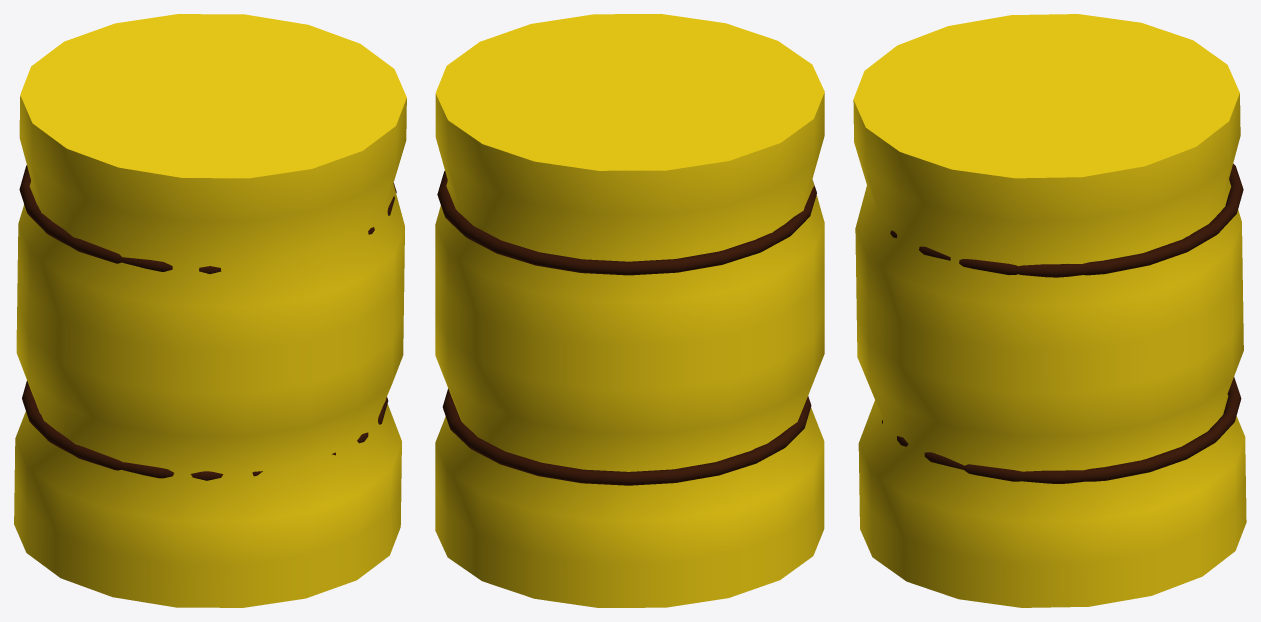
The model's file is Snopek_zboze.FBX.
3 views of the same model, side by side, from view 1: azimuth 30°, elevation 25°; view 2: azimuth 150°, elevation 25°; view 3: azimuth 270°, elevation 25° (orthographic).
Visible parts, largest first — view 1: Cylinder001, Torus002, Torus001; view 2: Cylinder001, Torus001, Torus002; view 3: Cylinder001, Torus002, Torus001.
Boxes of the visible parts, x1=… form: Cylinder001: x1=14, y1=14, x2=406, y2=607; Torus002: x1=22, y1=381, x2=388, y2=480; Torus001: x1=19, y1=165, x2=396, y2=273; Cylinder001: x1=435, y1=14, x2=824, y2=607; Torus001: x1=437, y1=171, x2=816, y2=275; Torus002: x1=442, y1=388, x2=811, y2=485; Cylinder001: x1=853, y1=14, x2=1246, y2=607; Torus002: x1=882, y1=377, x2=1241, y2=483; Torus001: x1=890, y1=163, x2=1243, y2=277.
Size of the model in its own units: 12.49 by 15.63 by 12.76.
